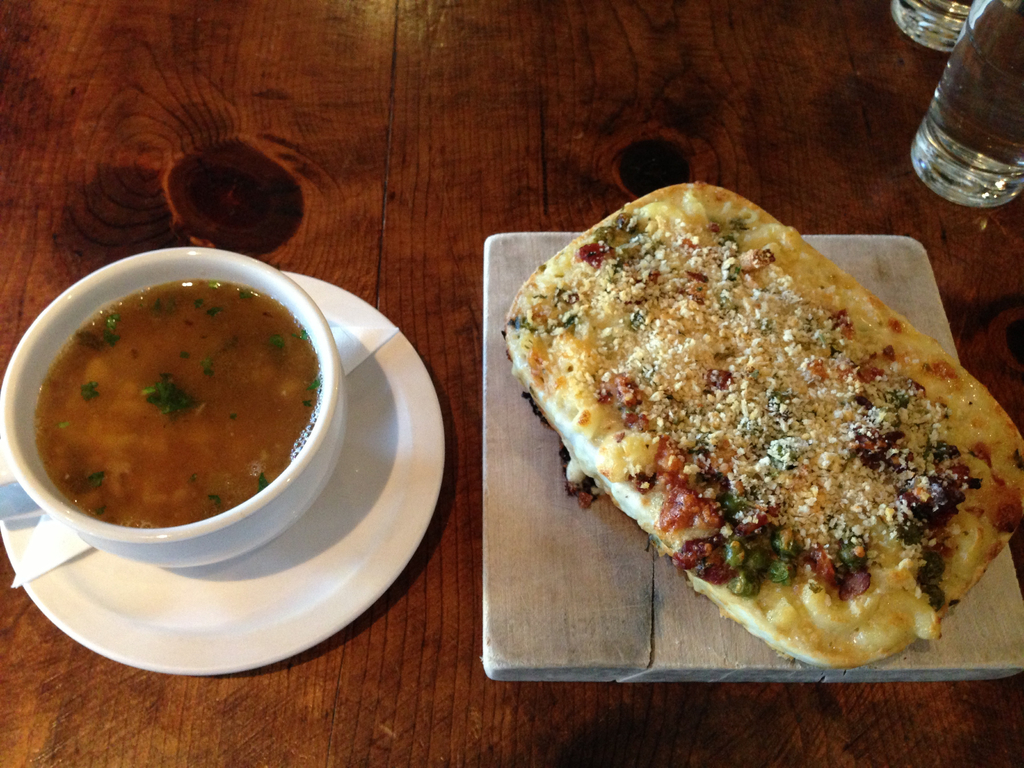Pizza: (496, 206, 1011, 679)
